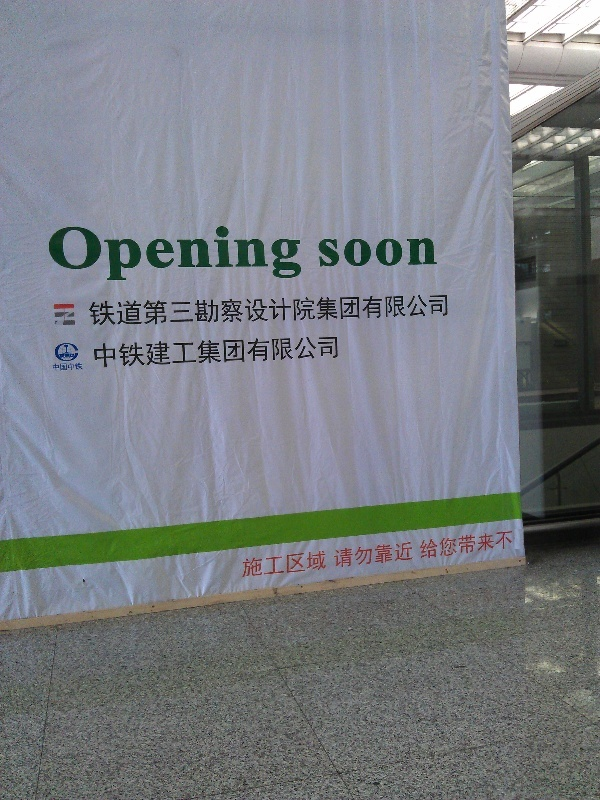text: (49, 220, 64, 285), (65, 220, 80, 285), (81, 220, 96, 285), (97, 220, 112, 285), (113, 220, 128, 285), (129, 220, 144, 285), (145, 220, 160, 285), (161, 220, 176, 285), (177, 220, 192, 285), (193, 220, 208, 285), (209, 220, 224, 285), (225, 220, 240, 285), (241, 220, 256, 285), (257, 220, 272, 285), (273, 220, 288, 285), (289, 220, 303, 285), (97, 332, 112, 371), (113, 332, 128, 371), (129, 332, 144, 371), (145, 332, 160, 371), (161, 332, 176, 371), (177, 332, 192, 371), (193, 332, 208, 371), (209, 332, 224, 371), (225, 332, 240, 371), (241, 332, 256, 371), (257, 332, 272, 371), (273, 332, 288, 371), (289, 332, 304, 371), (305, 332, 320, 371), (321, 332, 336, 371), (97, 293, 112, 327), (113, 293, 128, 327), (129, 293, 144, 327), (145, 293, 160, 327), (161, 293, 176, 327), (177, 293, 192, 327), (193, 293, 208, 327), (209, 293, 224, 327), (225, 293, 240, 327), (241, 293, 256, 327), (257, 293, 272, 327), (273, 293, 288, 327), (289, 293, 304, 327), (305, 293, 320, 327), (321, 293, 336, 327), (337, 293, 352, 327), (353, 293, 368, 327), (369, 293, 384, 327), (385, 293, 400, 327), (401, 293, 416, 327), (417, 293, 432, 327), (433, 293, 448, 327), (497, 530, 513, 560), (321, 237, 336, 268), (337, 237, 352, 268), (353, 237, 368, 268), (369, 237, 384, 268), (385, 237, 400, 268), (401, 237, 416, 268), (417, 237, 432, 268), (241, 549, 256, 579), (257, 549, 272, 579), (273, 549, 288, 579), (289, 549, 304, 579), (305, 549, 320, 579), (337, 540, 352, 570), (353, 540, 368, 570), (369, 540, 384, 570), (385, 540, 400, 570), (433, 530, 448, 560), (449, 530, 464, 560), (465, 530, 480, 560), (481, 530, 496, 560), (401, 540, 414, 570), (419, 530, 432, 560), (89, 293, 96, 327), (321, 549, 328, 579), (45, 220, 48, 285), (91, 332, 96, 371), (433, 237, 438, 268), (65, 362, 80, 372), (53, 362, 64, 372), (333, 540, 336, 570), (337, 332, 339, 371), (318, 237, 320, 268), (65, 353, 75, 359), (449, 293, 450, 327), (81, 362, 84, 372), (59, 353, 64, 359)
